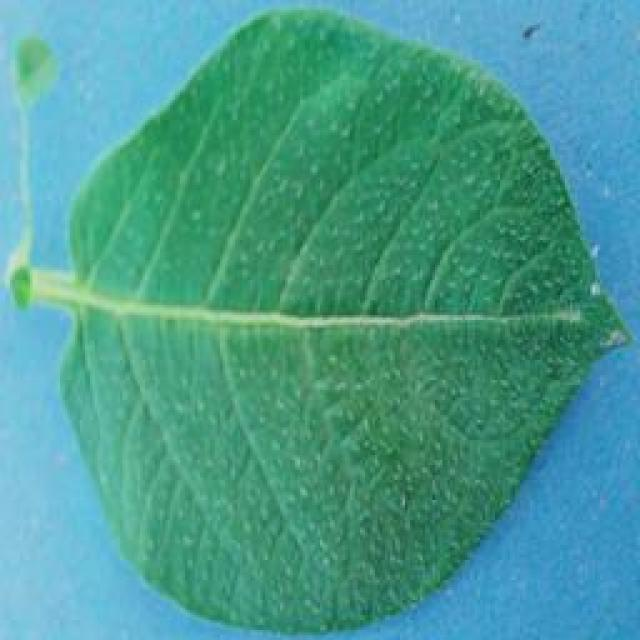Potato_Healthy: (14, 6, 626, 632)
